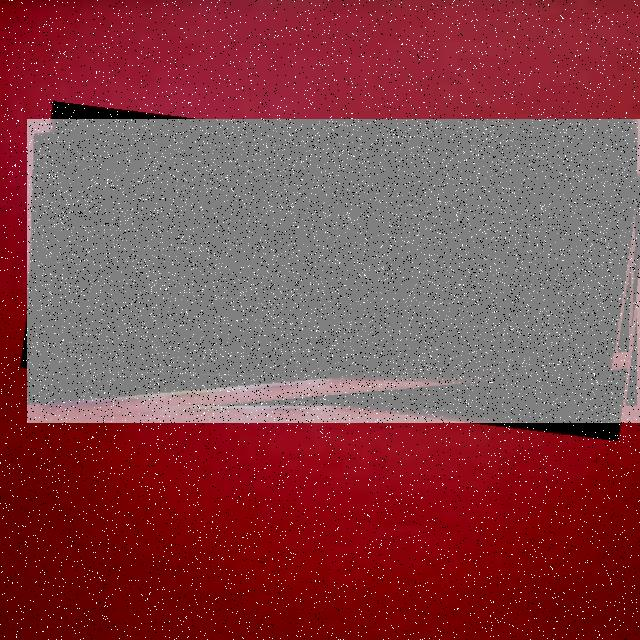lima puluh ribu rupiah: (27, 119, 640, 423)
